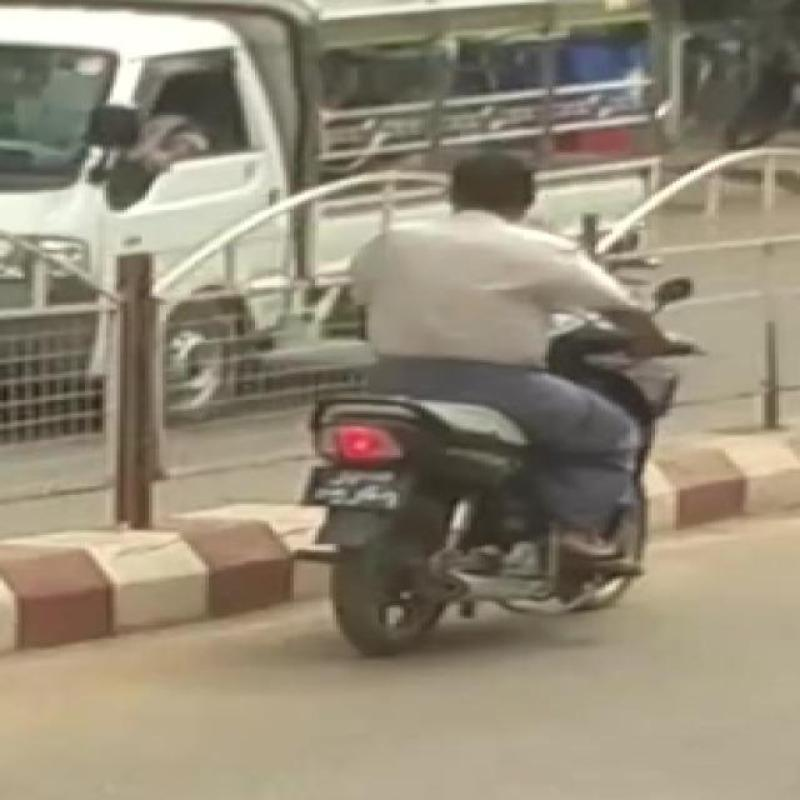nohelmet: (418, 129, 596, 236)
